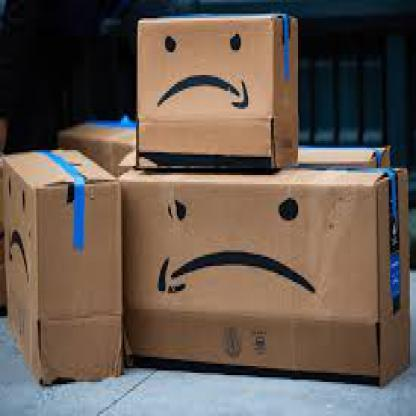package: (127, 163, 412, 377), (2, 148, 123, 386), (135, 13, 299, 170)
